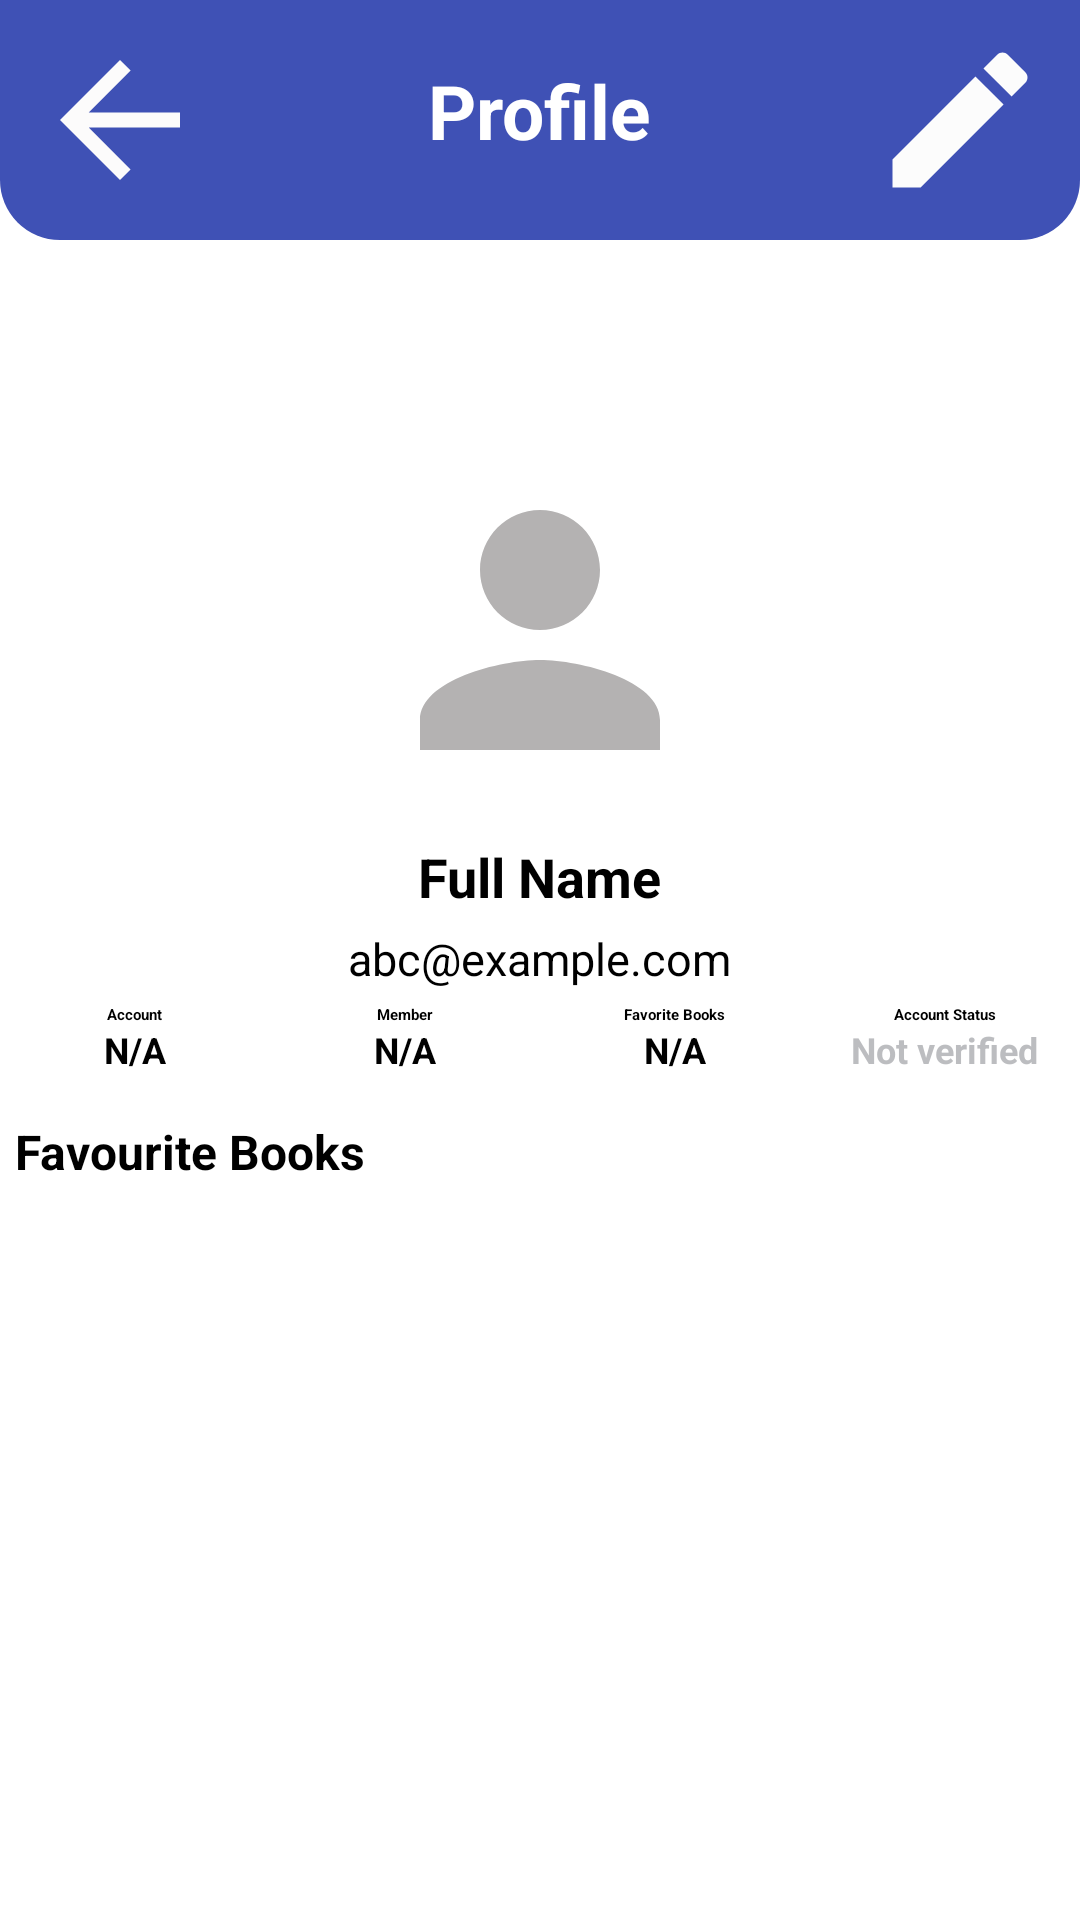

Icons on this 1080*1920 Android screen, each with its box as (x1, y1, x2, y2):
back: (60, 60, 180, 180)
edit: (892, 52, 1028, 188)
person: (420, 510, 660, 750)
